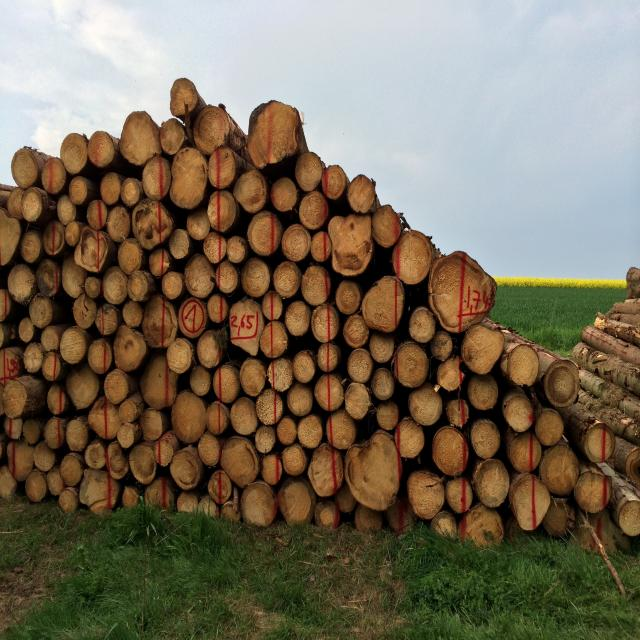wood-log: (428, 254, 486, 333), (350, 430, 401, 509), (249, 101, 301, 167), (329, 217, 373, 280), (507, 473, 551, 531), (361, 276, 404, 332), (120, 111, 162, 166), (173, 148, 209, 212), (140, 353, 180, 410), (462, 325, 506, 375), (540, 444, 582, 496), (394, 230, 434, 284), (194, 106, 236, 154), (134, 199, 174, 248), (306, 442, 342, 496), (228, 296, 262, 352), (222, 436, 260, 486), (433, 428, 471, 478), (459, 506, 503, 549), (172, 390, 207, 444), (141, 297, 176, 351), (408, 470, 446, 519), (472, 458, 510, 506), (394, 341, 431, 388), (111, 324, 147, 372), (0, 375, 40, 417), (277, 478, 314, 523), (240, 480, 276, 526), (80, 470, 121, 510), (505, 431, 544, 473), (546, 358, 578, 408), (67, 364, 102, 409), (233, 168, 268, 213), (247, 209, 281, 255), (575, 469, 610, 513), (409, 385, 445, 427), (168, 446, 202, 490), (371, 206, 404, 250), (207, 190, 239, 234), (185, 256, 217, 299), (89, 398, 121, 441), (326, 408, 357, 451), (298, 191, 332, 230), (504, 392, 537, 432), (393, 417, 425, 458), (302, 264, 333, 306), (469, 421, 500, 461), (510, 345, 540, 386), (241, 257, 271, 298), (311, 302, 341, 343), (172, 76, 202, 117), (313, 375, 346, 412), (0, 207, 21, 265), (129, 442, 157, 485), (468, 374, 500, 411), (387, 494, 418, 532), (9, 262, 37, 304), (76, 276, 100, 325), (296, 152, 326, 191), (142, 156, 168, 201), (62, 254, 88, 299), (144, 474, 175, 511), (230, 398, 260, 436), (544, 500, 574, 538), (344, 382, 374, 420), (60, 134, 88, 174), (12, 149, 40, 189), (260, 322, 290, 359), (409, 306, 439, 342), (198, 330, 225, 370), (59, 327, 88, 364), (536, 409, 565, 446), (347, 176, 375, 214), (88, 130, 116, 168), (102, 266, 128, 306), (212, 364, 238, 404), (282, 225, 310, 262), (240, 358, 267, 396), (342, 313, 372, 347), (42, 157, 68, 196), (447, 475, 473, 514), (439, 356, 467, 392), (284, 301, 311, 338), (274, 262, 301, 299), (257, 389, 284, 426), (160, 118, 186, 156), (36, 257, 60, 298), (271, 176, 299, 211), (348, 347, 376, 382), (166, 338, 193, 374), (270, 356, 295, 394), (105, 440, 128, 481), (117, 237, 143, 273), (11, 441, 35, 480), (105, 369, 132, 403), (371, 366, 397, 401), (106, 207, 130, 244), (336, 282, 362, 316), (298, 414, 324, 448), (281, 442, 307, 476), (353, 506, 384, 534), (140, 409, 167, 441), (369, 332, 396, 364), (432, 511, 459, 543), (286, 385, 312, 418), (42, 219, 65, 256), (187, 206, 212, 240), (66, 418, 90, 453), (324, 165, 348, 200), (74, 295, 98, 330), (89, 338, 113, 373), (262, 286, 285, 322), (29, 296, 54, 329), (158, 432, 180, 469), (619, 500, 640, 538), (60, 453, 84, 486), (198, 433, 220, 469), (21, 228, 43, 264), (317, 342, 342, 373), (168, 230, 193, 261), (97, 305, 122, 336), (129, 269, 153, 301), (448, 398, 472, 430), (203, 231, 226, 264), (292, 350, 315, 383), (375, 402, 400, 432), (216, 260, 238, 294), (432, 331, 456, 362), (315, 499, 339, 530), (187, 366, 211, 396), (208, 400, 228, 436), (86, 199, 109, 230), (24, 342, 46, 374), (26, 470, 48, 502), (34, 440, 56, 472), (206, 292, 228, 324), (0, 346, 20, 381), (0, 465, 19, 501), (48, 384, 68, 418), (100, 171, 121, 203), (147, 247, 168, 279), (120, 396, 144, 424), (335, 484, 358, 513), (253, 426, 276, 455), (162, 270, 185, 299), (24, 188, 43, 222), (69, 174, 91, 203), (41, 352, 63, 381), (276, 416, 297, 446), (263, 450, 282, 483), (21, 417, 44, 444), (43, 418, 63, 449), (124, 299, 146, 327), (311, 229, 329, 263), (85, 441, 106, 469), (123, 176, 143, 205), (40, 324, 60, 352), (178, 491, 202, 514), (58, 194, 77, 223), (60, 487, 80, 514), (228, 235, 248, 262), (118, 426, 140, 450), (20, 318, 38, 345), (124, 484, 143, 509), (46, 468, 62, 496), (66, 220, 82, 248), (155, 430, 176, 449), (86, 276, 103, 298), (0, 286, 10, 322), (0, 432, 8, 464), (0, 323, 9, 347), (53, 485, 70, 497)
